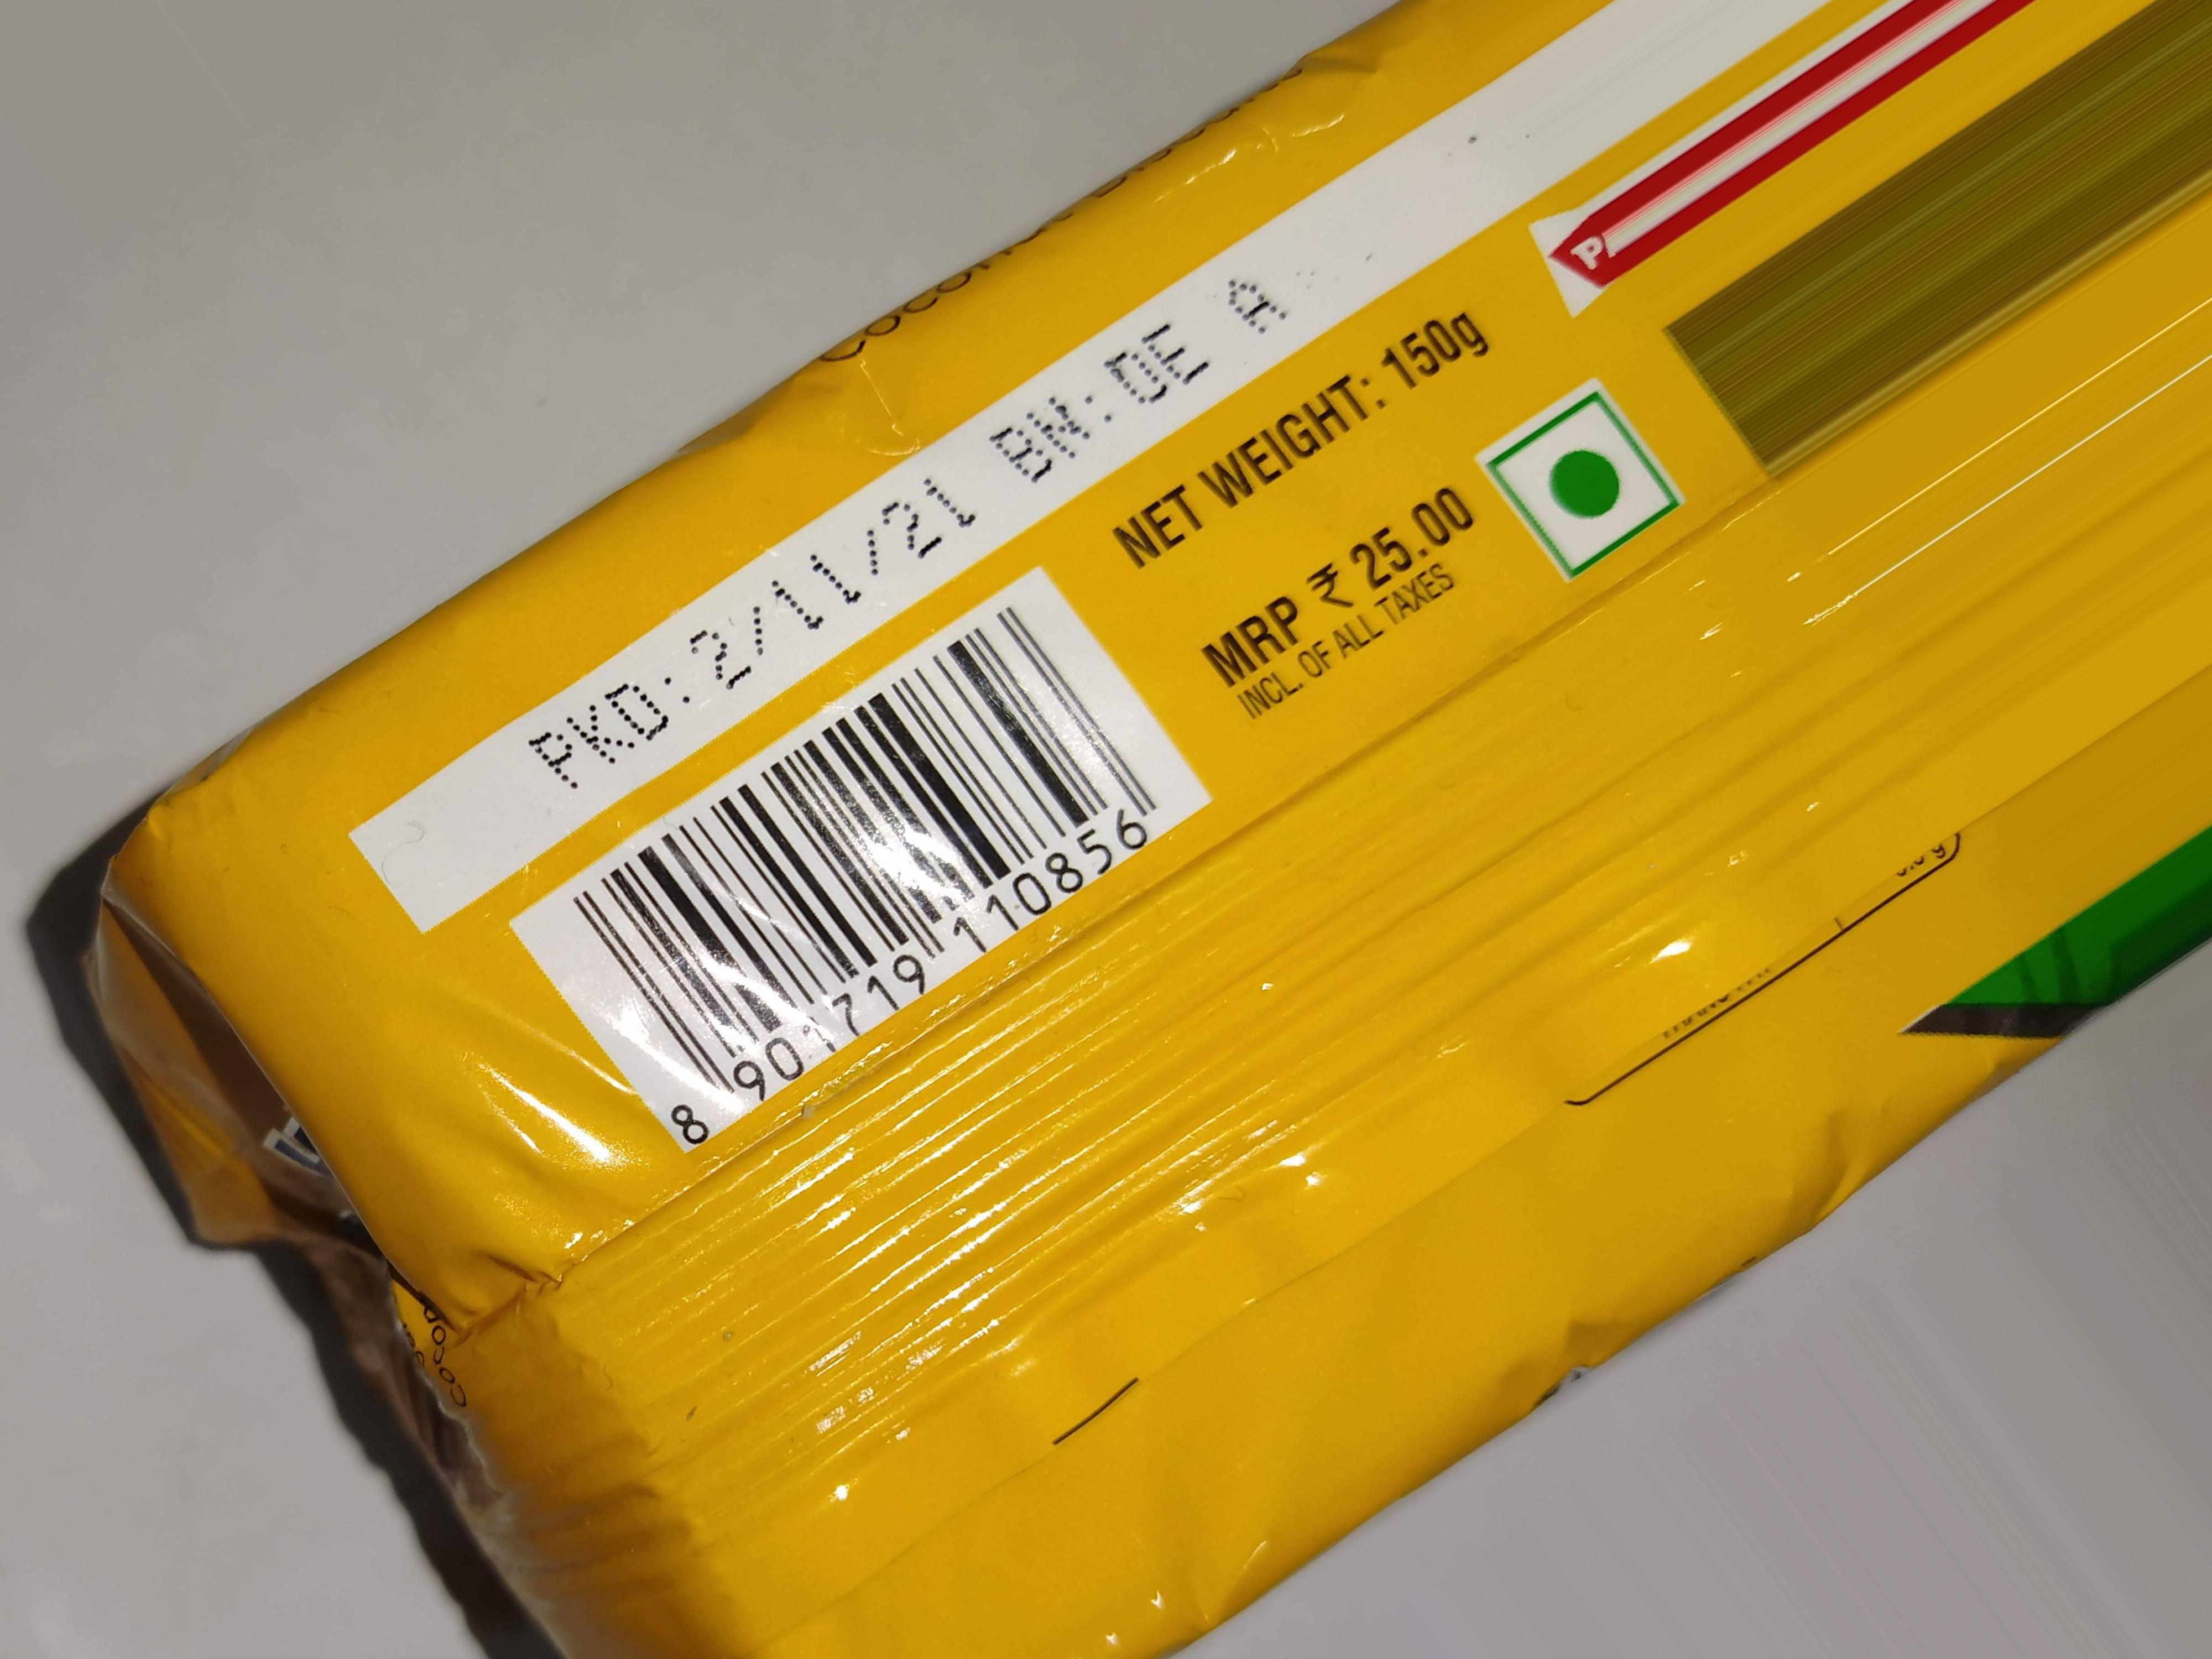Bar_code: (554, 606, 1219, 1150)
Item: (45, 0, 2186, 1629)
